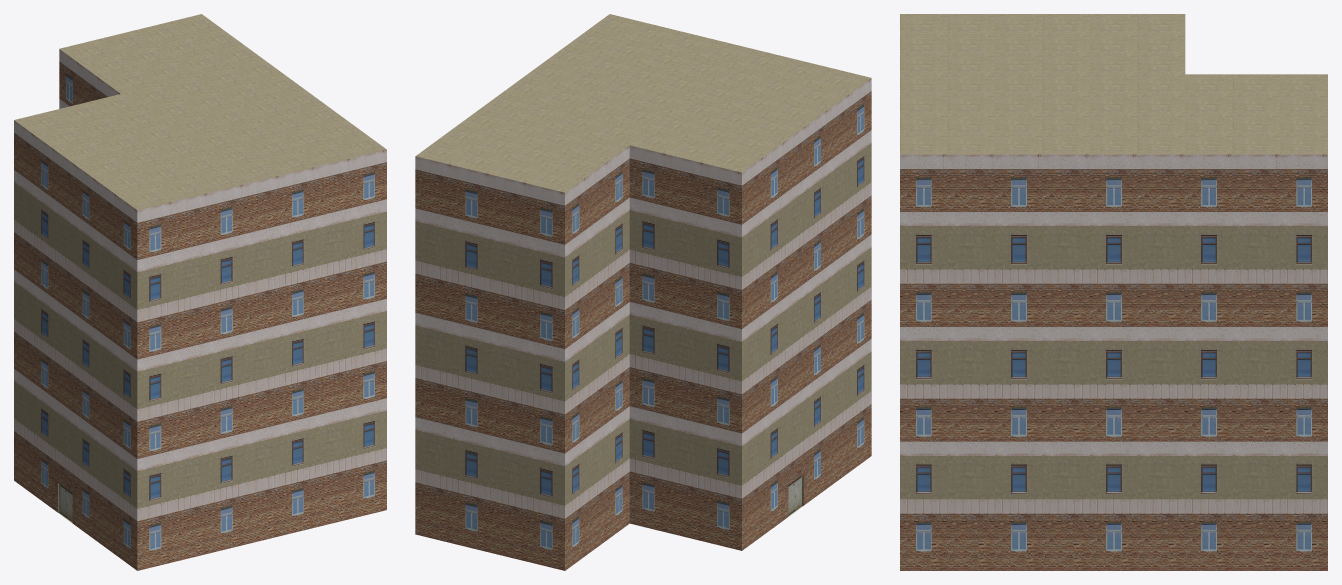
File: flat_Lshape_large_alt.glb
3 views of the same model, side by side, from view 1: azimuth 30°, elevation 25°; view 2: azimuth 150°, elevation 25°; view 3: azimuth 270°, elevation 25° (orthographic). The views are drawn at different scales.
Visible parts, largest first — view 1: flat_Lshape_large_alt; view 2: flat_Lshape_large_alt; view 3: flat_Lshape_large_alt.
Part boxes in pixels (x1,y1,x2,y2): flat_Lshape_large_alt: (14, 14, 386, 570); flat_Lshape_large_alt: (415, 14, 871, 570); flat_Lshape_large_alt: (900, 14, 1327, 570).
Bounding box in the file's own units: 21 × 29 × 27.
1 material, 1 textured.
